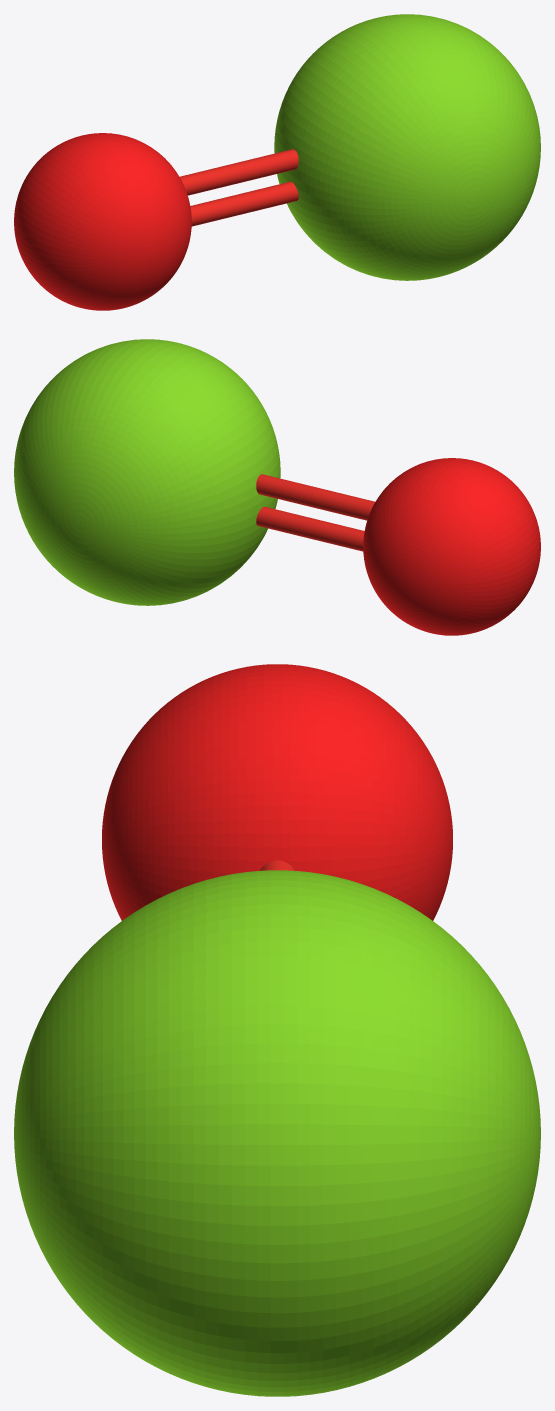
Rendered from magnesium_oxide.glb.
3 views of the same model, one above another, from view 1: azimuth 30°, elevation 25°; view 2: azimuth 150°, elevation 25°; view 3: azimuth 270°, elevation 25° (orthographic). The views are drawn at different scales.
Visible parts, largest first — view 1: Magnesium_Mg, Oxygen_O, Oxygen_Rod_1, Oxygen_Rod_2; view 2: Magnesium_Mg, Oxygen_O, Oxygen_Rod_1, Oxygen_Rod_2; view 3: Magnesium_Mg, Oxygen_O.
Boxes of the visible parts, x1=… form: Magnesium_Mg: x1=274, y1=14, x2=540, y2=280; Oxygen_O: x1=14, y1=133, x2=191, y2=310; Oxygen_Rod_1: x1=179, y1=149, x2=298, y2=195; Oxygen_Rod_2: x1=190, y1=181, x2=298, y2=226; Magnesium_Mg: x1=14, y1=339, x2=280, y2=605; Oxygen_O: x1=363, y1=458, x2=540, y2=635; Oxygen_Rod_1: x1=256, y1=474, x2=375, y2=520; Oxygen_Rod_2: x1=256, y1=506, x2=364, y2=551; Magnesium_Mg: x1=14, y1=870, x2=540, y2=1396; Oxygen_O: x1=102, y1=664, x2=452, y2=920.
Bounding box in the file's own units: 3.1 × 1.44 × 1.44.
